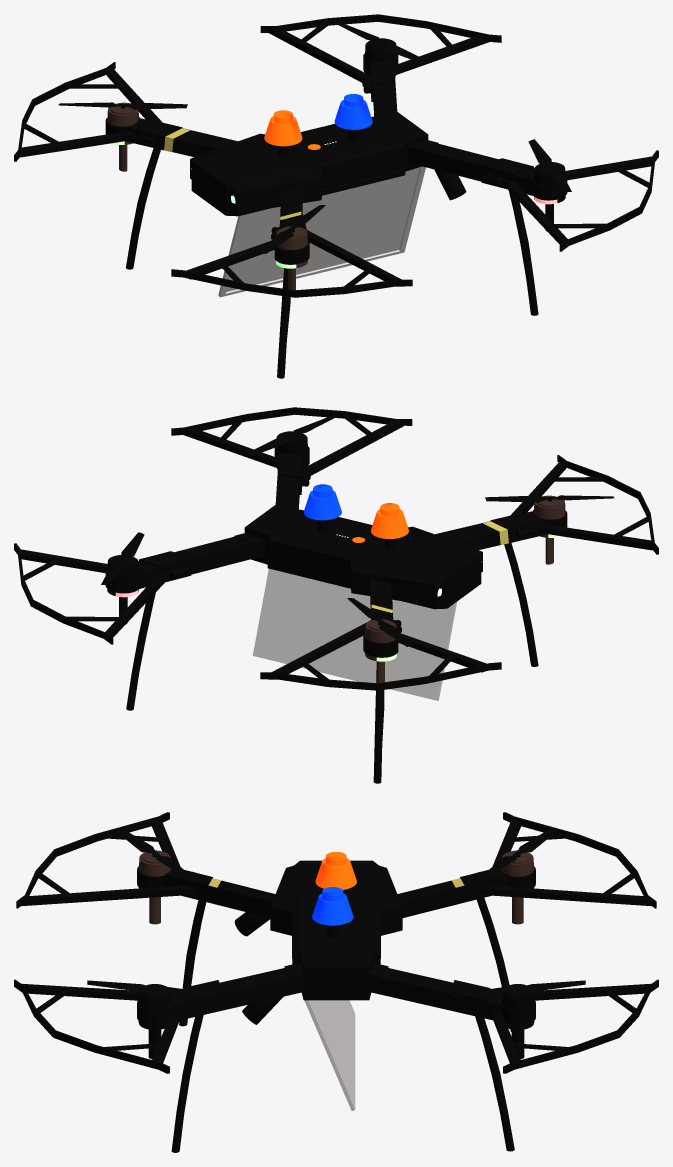
File: Drone2.fbx
3 renders of one model, top to bottom at view 1: azimuth 30°, elevation 25°; view 2: azimuth 150°, elevation 25°; view 3: azimuth 270°, elevation 25°, orthographic. The views are drawn at different scales.
Parts seen in each view (by area): view 1: Cube.030, Cube, Cylinder.009, Cylinder.001, Cylinder.005, Cylinder.006, Cylinder.004, Cylinder.002; view 2: Cube.030, Cube, Cylinder.009, Cylinder.001, Cylinder.004, Cylinder.007, Cylinder.006; view 3: Cube.030, Cube, Cylinder.007, Cylinder.009, Cylinder.005, Cylinder.001, Cylinder.004, Cylinder.006, Cylinder.002, Cylinder.003.
Part boxes in pixels (x1,y1,x2,y2): Cube.030: [14, 14, 658, 297]; Cube: [218, 166, 425, 297]; Cylinder.009: [334, 94, 372, 129]; Cylinder.001: [264, 110, 302, 146]; Cylinder.005: [509, 191, 538, 315]; Cylinder.006: [126, 148, 160, 269]; Cylinder.004: [277, 268, 290, 378]; Cylinder.002: [434, 169, 466, 200]; Cube.030: [14, 407, 658, 690]; Cube: [252, 568, 456, 700]; Cylinder.009: [303, 484, 341, 520]; Cylinder.001: [370, 503, 408, 538]; Cylinder.004: [504, 543, 538, 666]; Cylinder.007: [126, 592, 155, 710]; Cylinder.006: [373, 661, 384, 783]; Cube.030: [14, 812, 658, 1073]; Cube: [304, 1000, 355, 1110]; Cylinder.007: [475, 1016, 514, 1151]; Cylinder.009: [312, 887, 353, 925]; Cylinder.005: [171, 1015, 203, 1152]; Cylinder.001: [315, 851, 356, 889]; Cylinder.004: [179, 900, 206, 1026]; Cylinder.006: [477, 898, 511, 1031]; Cylinder.002: [242, 996, 283, 1024]; Cylinder.003: [234, 912, 270, 936].
Size of the model in its own units: 1093 by 424 by 1165.
